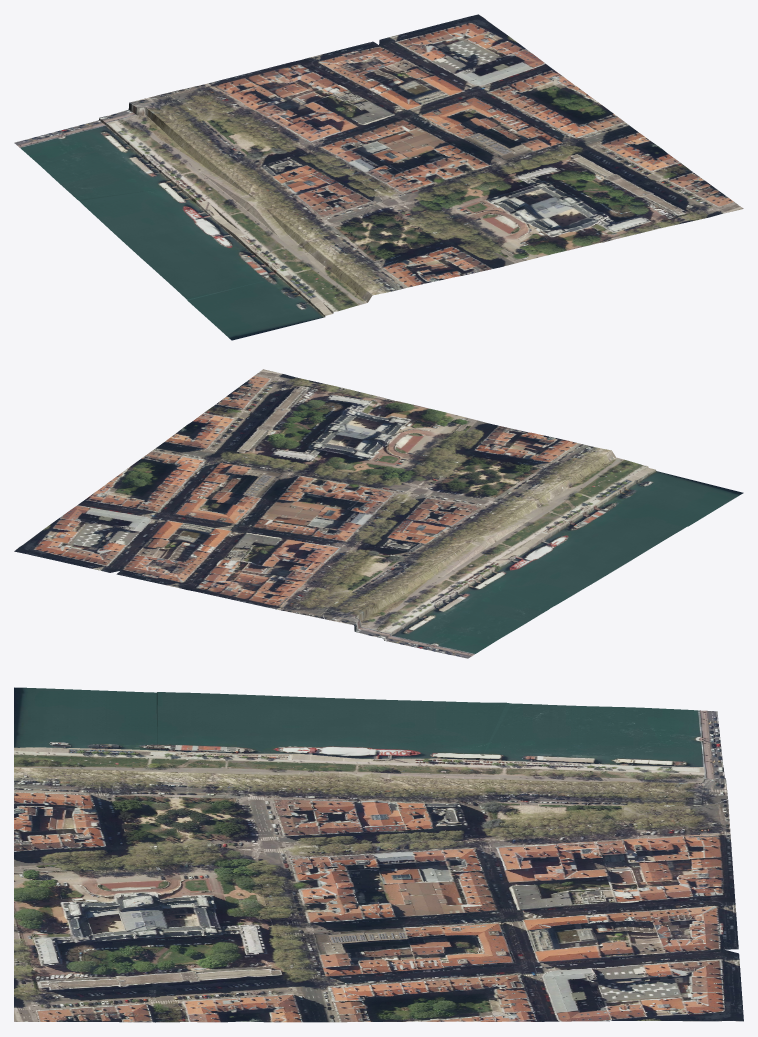
The model's file is gml_4d5046a5-1bf0-4bd7-b6f9-ba977d2bfe55.gltf.
The picture shows the model from 3 angles, top to bottom: view 1: azimuth 30°, elevation 25°; view 2: azimuth 150°, elevation 25°; view 3: azimuth 270°, elevation 25°; orthographic projection. The views are drawn at different scales.
Visible parts, largest first — view 1: Z_UP; view 2: Z_UP; view 3: Z_UP.
Boxes of the visible parts, x1,y1,x2,y2 form: Z_UP: (14, 14, 743, 340); Z_UP: (14, 369, 743, 658); Z_UP: (14, 687, 743, 1022).
Bounding box in the file's own units: 433 × 9.14 × 389.
Materials: 1 (1 with a texture image).
